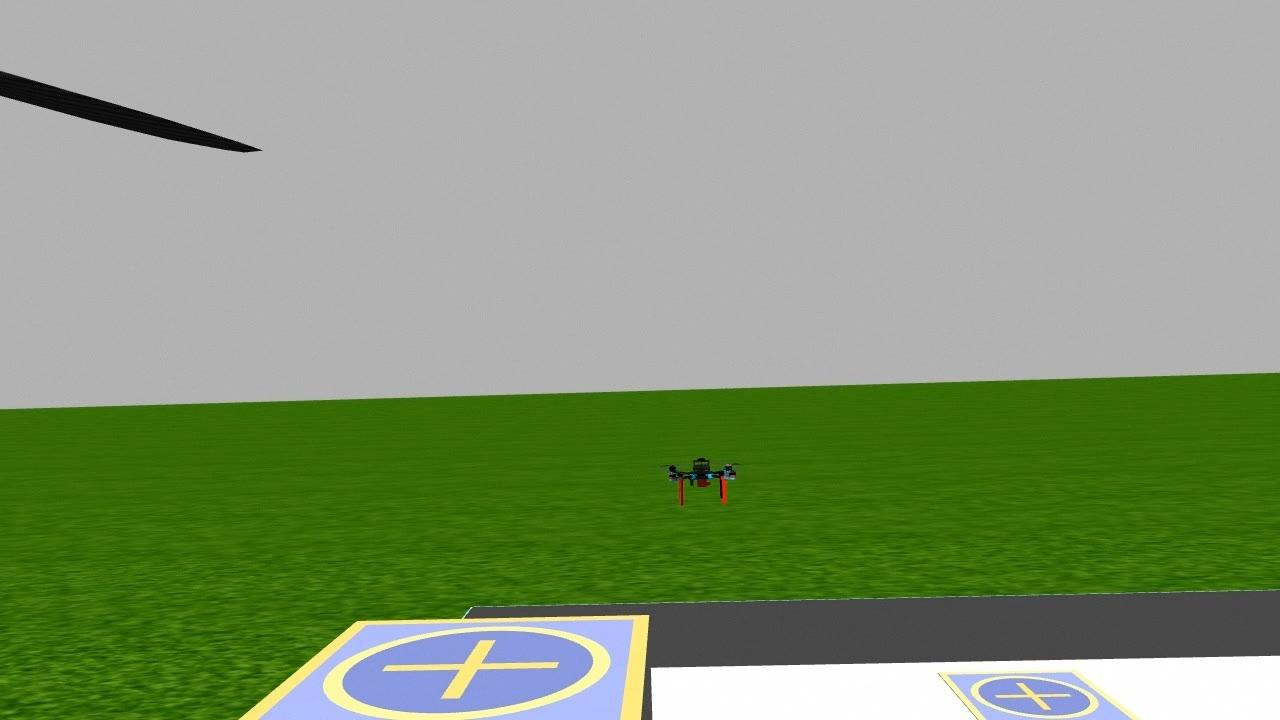UAV: (652, 440, 748, 521)
